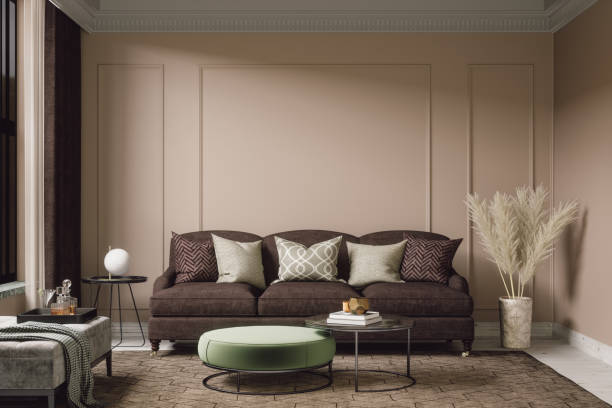flower vase: (466, 182, 585, 351)
side table: (82, 274, 146, 351)
sofa: (145, 226, 477, 353)
table: (198, 324, 337, 399), (312, 311, 418, 397)
